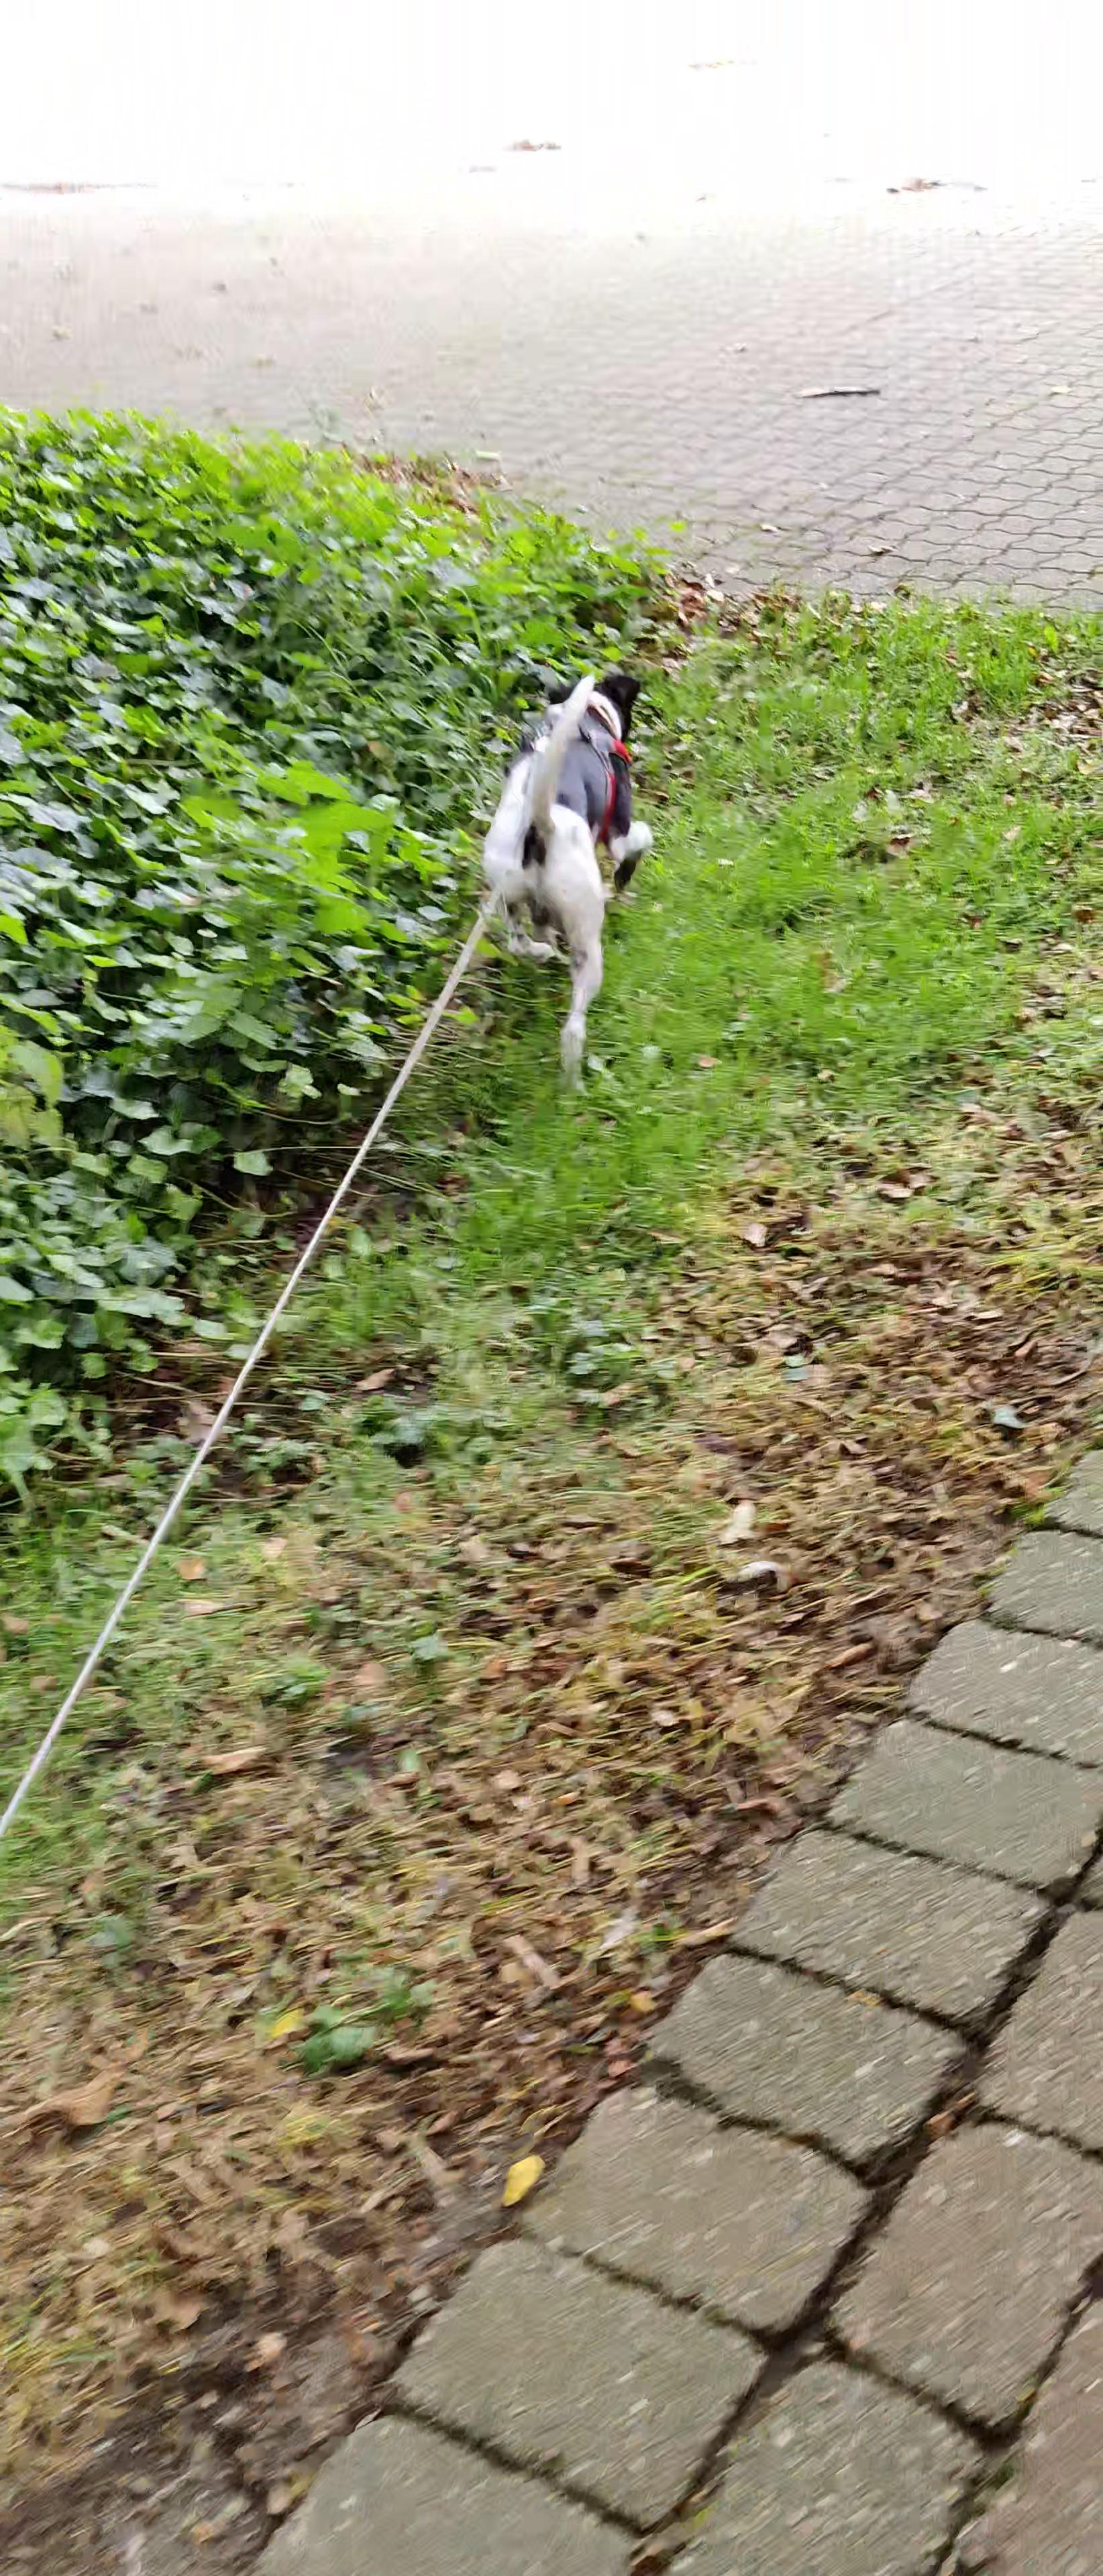Dog: (472, 651, 658, 1104)
